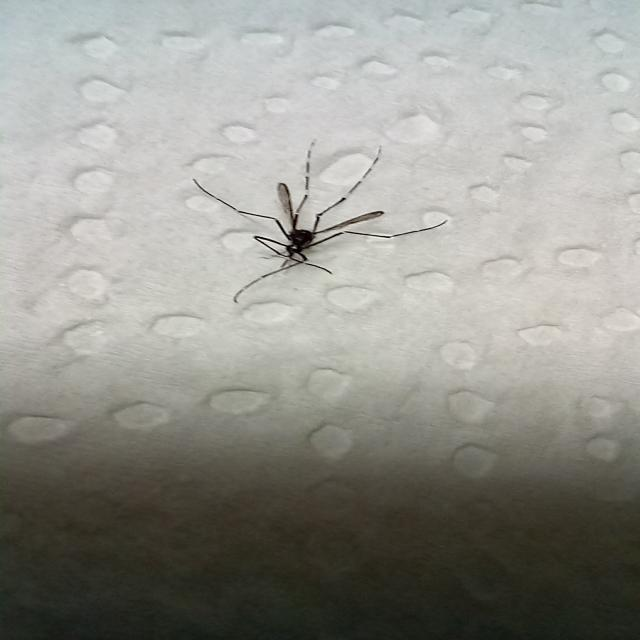albopictus: (191, 140, 455, 303)
